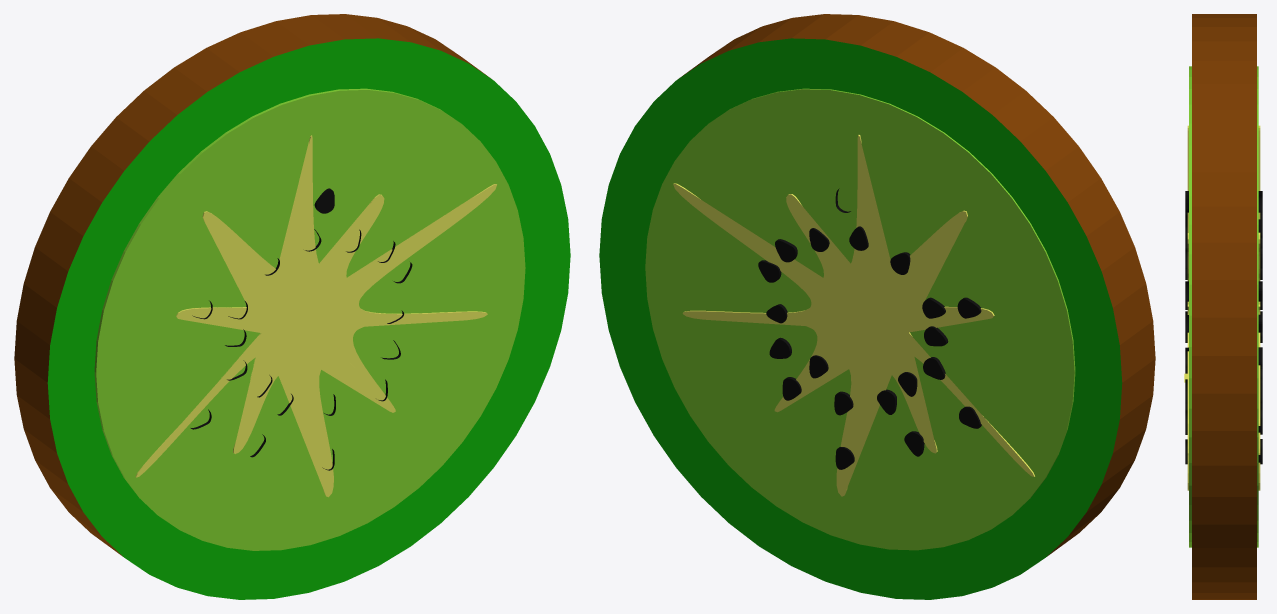
The model's file is kiwiGood.fbx.
3 views of the same model, side by side, from view 1: azimuth 30°, elevation 25°; view 2: azimuth 150°, elevation 25°; view 3: azimuth 270°, elevation 25° (orthographic). The views are drawn at different scales.
Parts seen in each view (by area): view 1: BezierCircle.003; view 2: BezierCircle.003; view 3: BezierCircle.003.
Part boxes in pixels (bbox=[...]): BezierCircle.003: bbox=[14, 14, 570, 599]; BezierCircle.003: bbox=[599, 14, 1155, 599]; BezierCircle.003: bbox=[1184, 14, 1262, 599].
Size of the model in its own units: 200 by 200 by 26.67.
